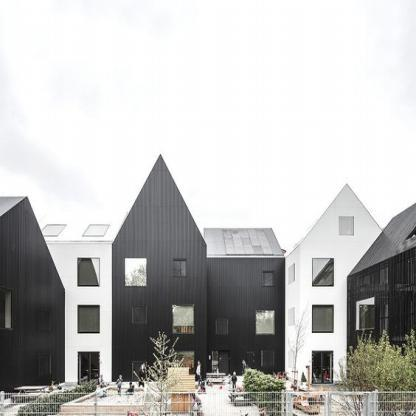Building Outline: (0, 153, 285, 401)
Door: (79, 352, 99, 385), (211, 350, 229, 376), (132, 361, 146, 382)
Facade: (0, 153, 285, 402)
Window: (78, 305, 100, 333), (77, 258, 99, 286), (125, 258, 147, 286), (172, 305, 194, 333), (172, 350, 194, 377), (0, 287, 11, 329), (256, 311, 274, 334), (38, 224, 67, 235), (83, 225, 109, 235), (133, 305, 147, 323), (173, 258, 187, 276), (38, 354, 50, 375), (38, 312, 50, 332), (216, 318, 228, 334), (262, 351, 274, 367), (263, 272, 274, 286)
